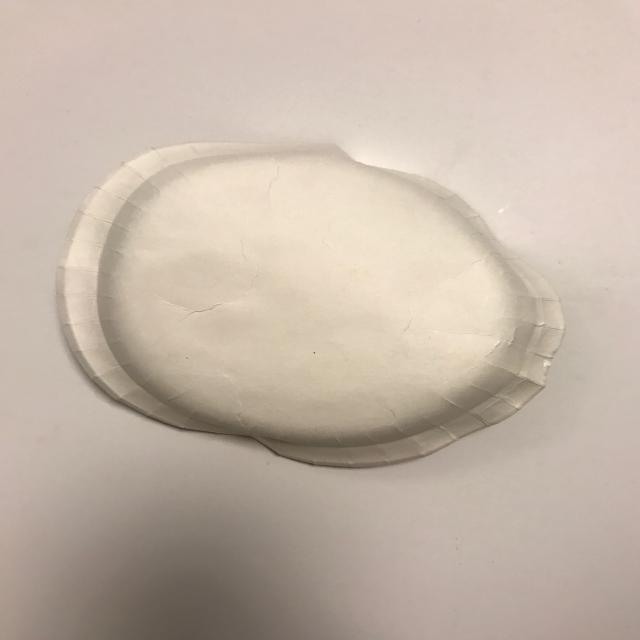paper: (36, 122, 573, 479)
